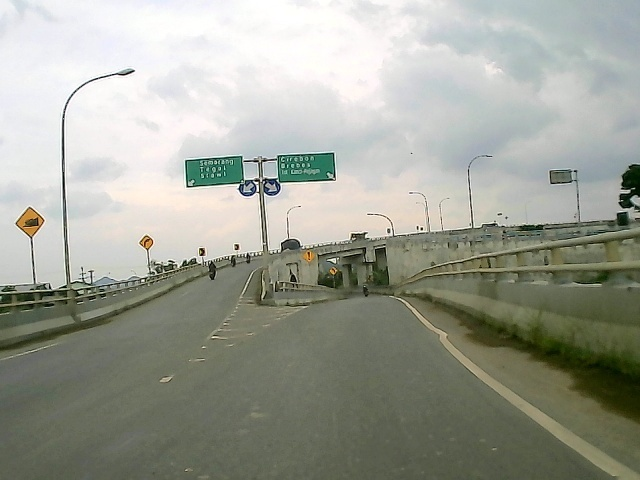Hati-hati: (302, 249, 316, 262)
Jalanan menanjak: (11, 206, 47, 239)
Tikungan ke kanan: (138, 234, 154, 253)
